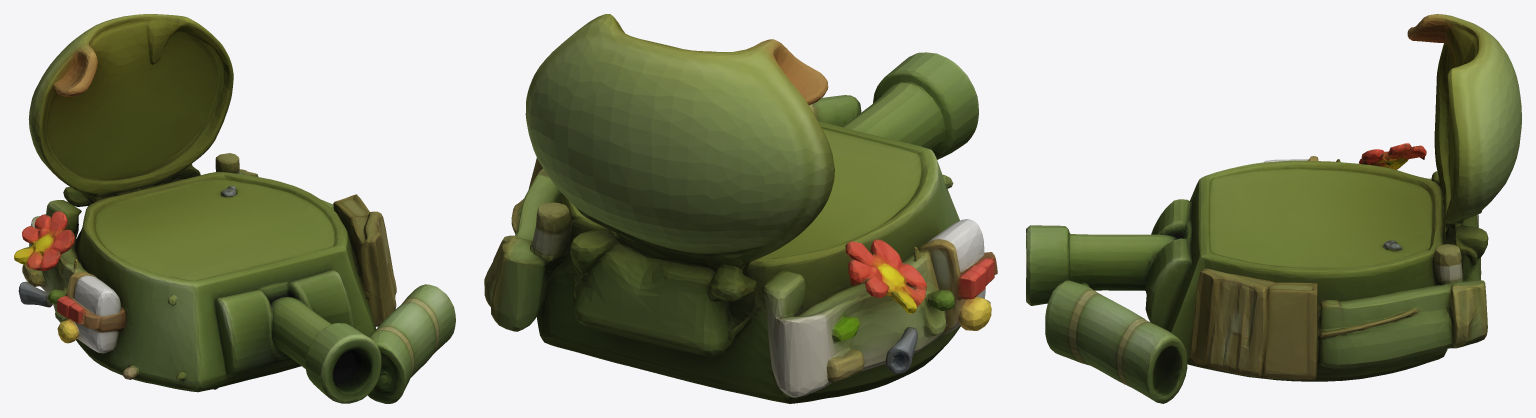
Rendered from Turet.glb.
3 views of the same model, side by side, from view 1: azimuth 30°, elevation 25°; view 2: azimuth 150°, elevation 25°; view 3: azimuth 270°, elevation 25° (orthographic). The views are drawn at different scales.
Parts seen in each view (by area): view 1: world; view 2: world; view 3: world.
Part boxes in pixels (bbox=[...]): world: bbox=[14, 14, 455, 403]; world: bbox=[484, 14, 997, 403]; world: bbox=[1026, 14, 1521, 403].
Size of the model in its own units: 0.8034 by 0.6148 by 0.9998.
1 material, 1 textured.
